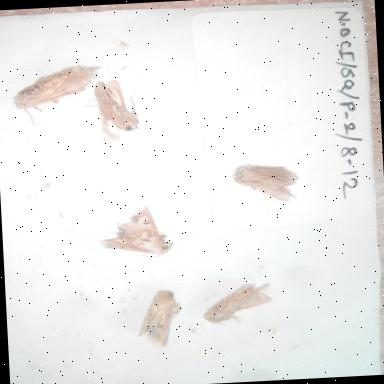abw: (4, 57, 106, 128), (92, 202, 180, 264), (194, 272, 278, 334), (225, 156, 304, 212), (125, 282, 188, 352), (88, 72, 148, 140)
